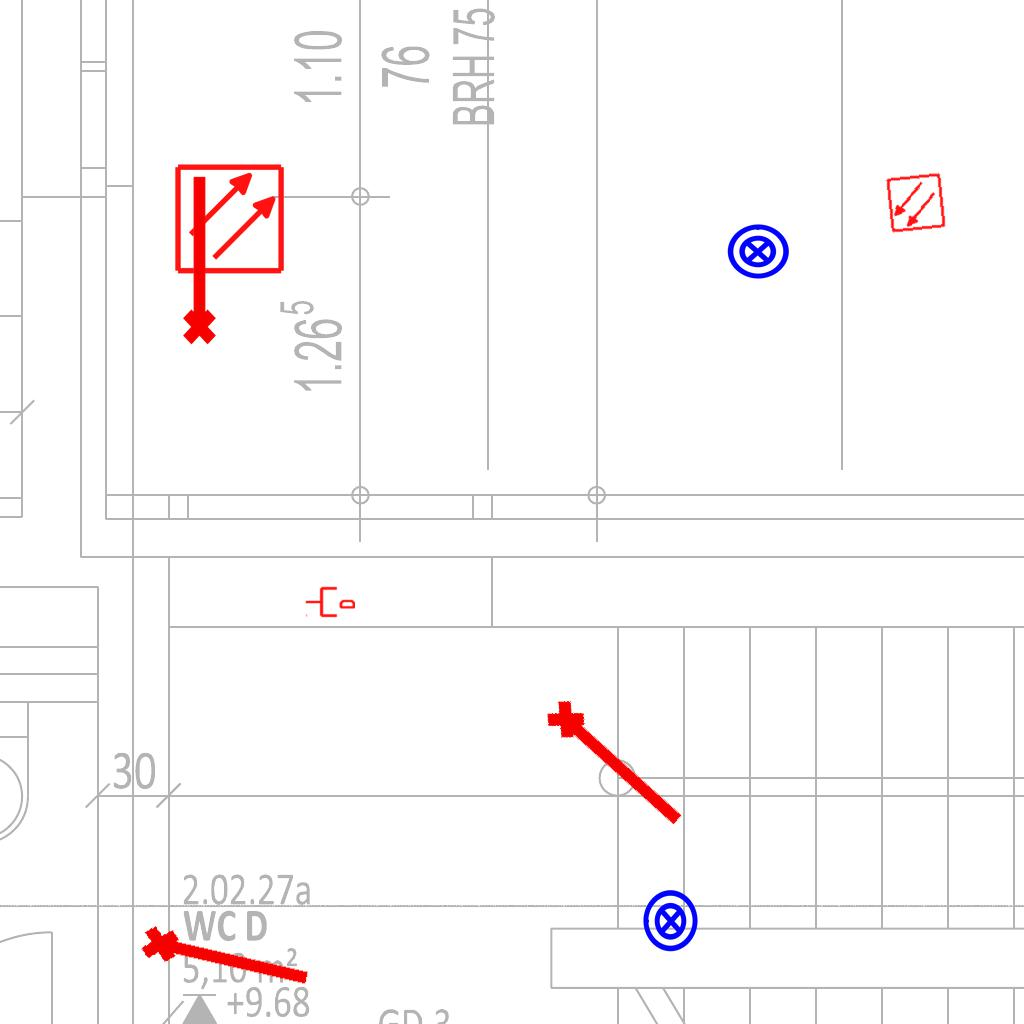ASR_Ansaugoeffnung: (537, 687, 699, 839), (136, 914, 318, 1000), (174, 171, 220, 347)
Datenanschluss_einfach: (305, 585, 355, 619)
RMO_Rauchmelder_optischer: (173, 162, 286, 275), (885, 172, 947, 234)
Taster_beleuchtet: (725, 219, 791, 285), (638, 888, 704, 954)
